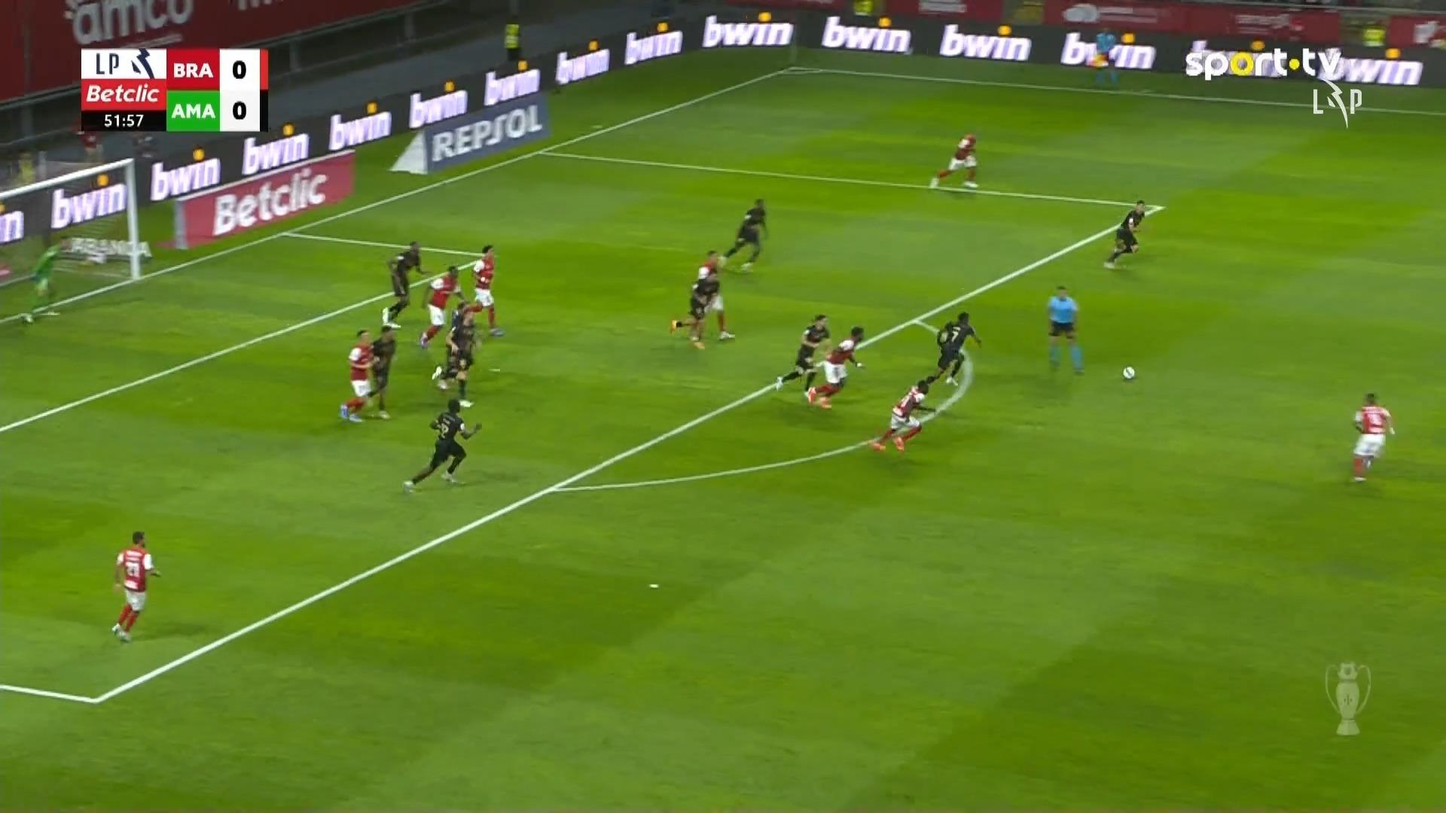ball: (1122, 366, 1135, 380)
goalkeeper: (20, 236, 72, 324)
player: (401, 397, 483, 492), (668, 250, 735, 349), (110, 530, 161, 642), (431, 299, 482, 407), (804, 325, 865, 410), (868, 376, 935, 452), (773, 313, 830, 392), (1349, 391, 1395, 482), (380, 239, 426, 330), (926, 310, 981, 385), (418, 263, 465, 349), (717, 197, 768, 272), (338, 329, 379, 422), (467, 243, 505, 336), (366, 321, 400, 419), (1103, 199, 1146, 269), (928, 132, 980, 189)
referee: (1045, 284, 1084, 374), (1089, 27, 1118, 88)
